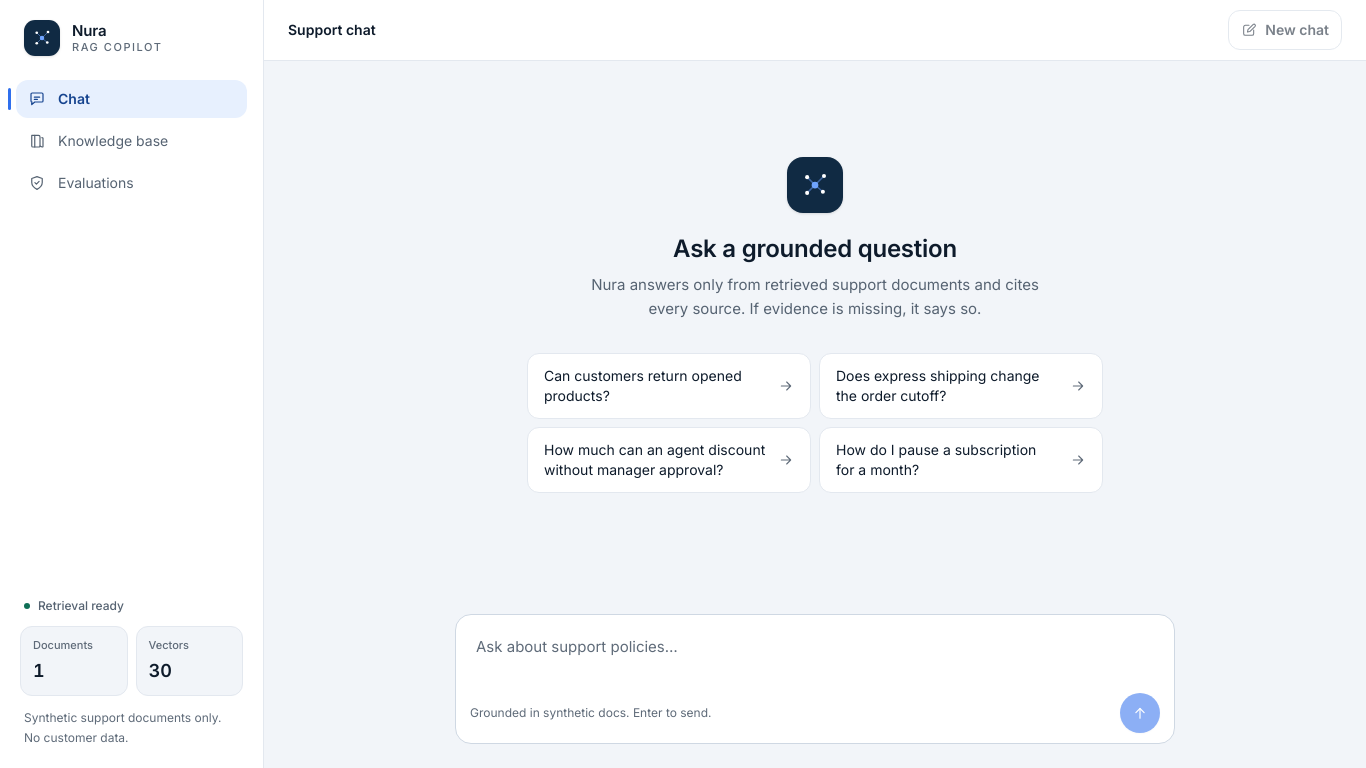
Test case: RagVisibilityDashboard › shows a grounded answer with cited retrieved evidence
In the text box named "Question": coordinates (815, 655) [464, 623, 1166, 687], type "Can customers return opened products?"
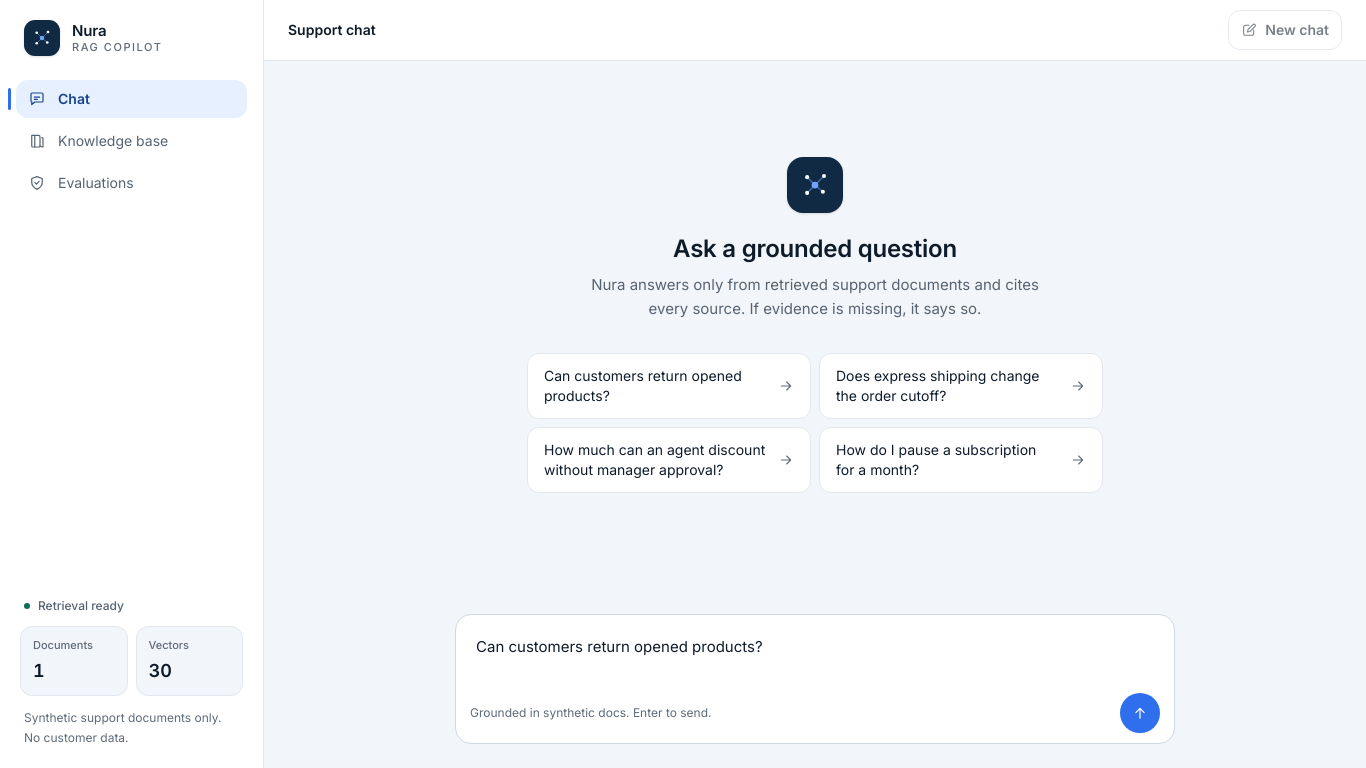
Click the button named "Generate answer": coordinates (1140, 713) [1120, 693, 1160, 733]
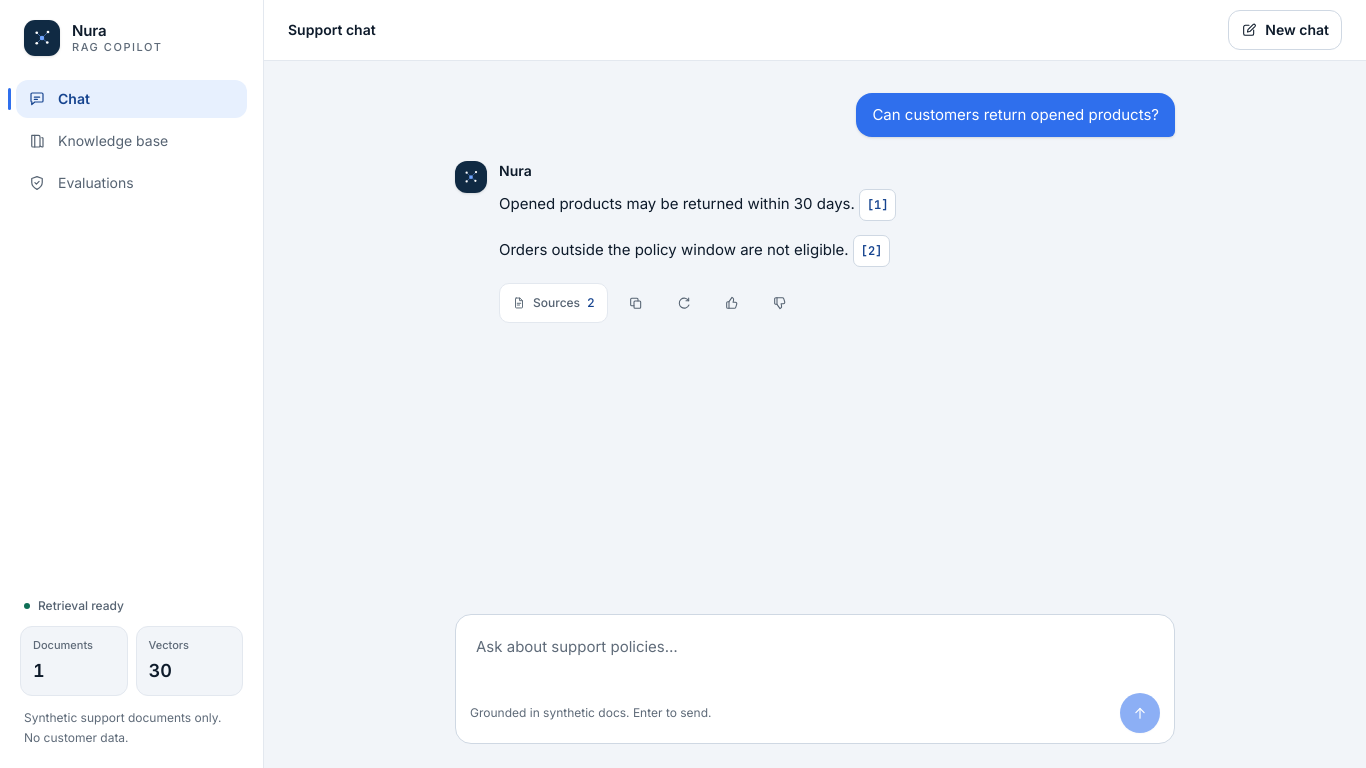
Expected: the text "Opened products may be returned within 30 days." is shown, [499, 194, 855, 213]
Expected: the text "Orders outside the policy window are not eligible." is shown, [499, 240, 849, 259]
Expected: the button "[1]" is shown, [859, 189, 896, 221]
Click the button "Sources 2": coordinates (553, 303) [499, 283, 608, 323]
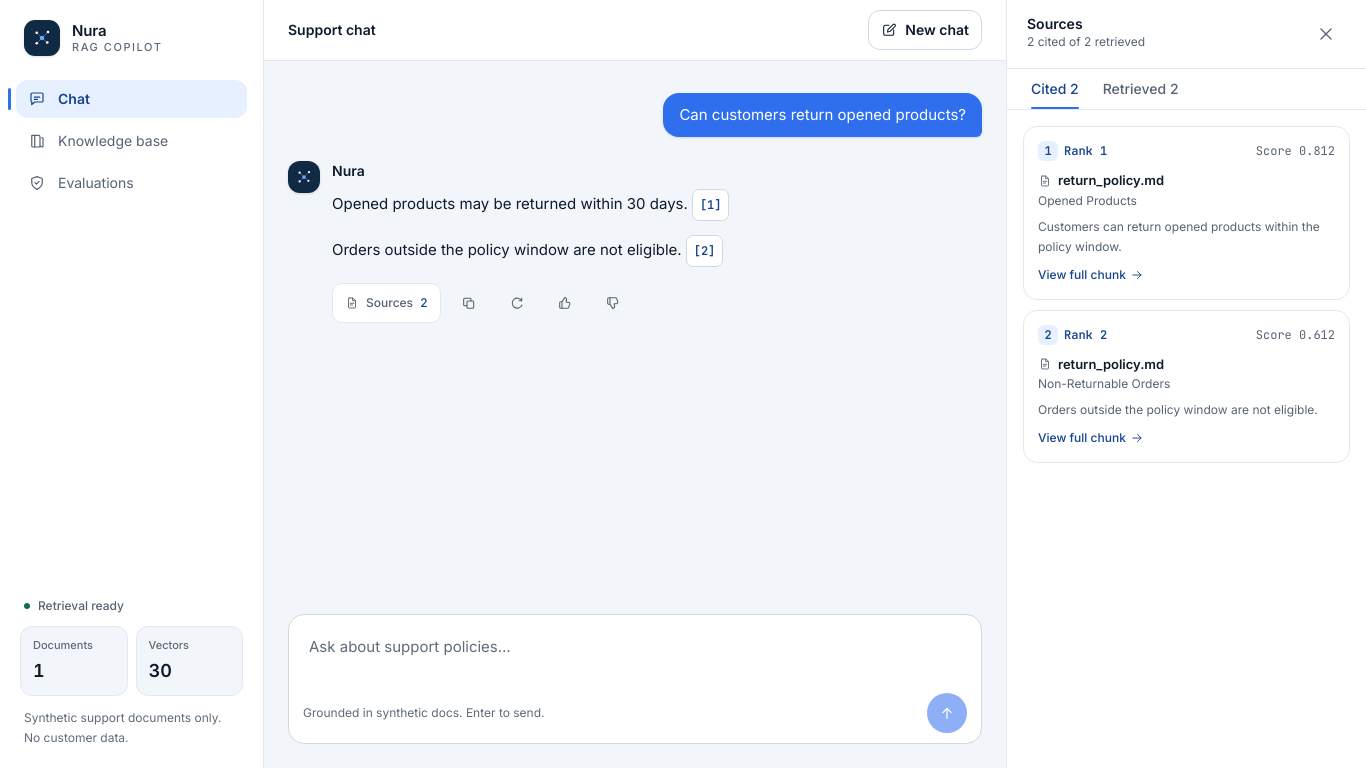
Expected: the text "Score 0.812" is shown, [1256, 143, 1335, 159]
Expected: the text "Score 0.612" is shown, [1256, 326, 1335, 342]
Expected: the 1st text "return_policy.md" is shown, [1038, 172, 1164, 188]
